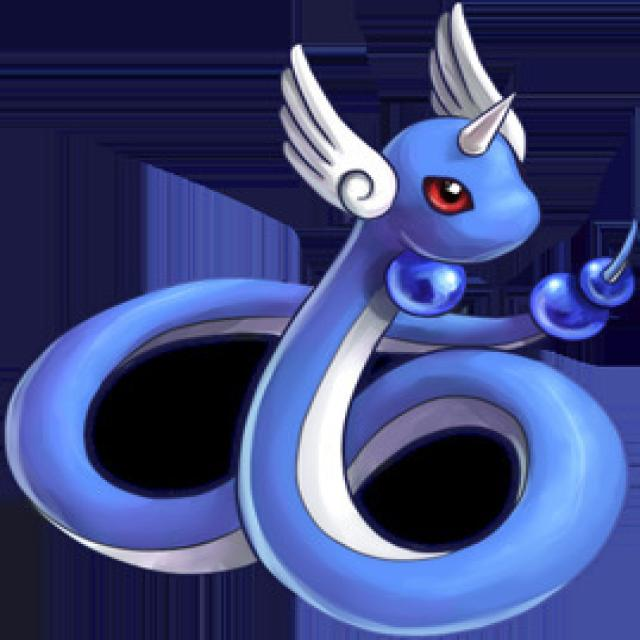Dragonair: (231, 0, 616, 631)
